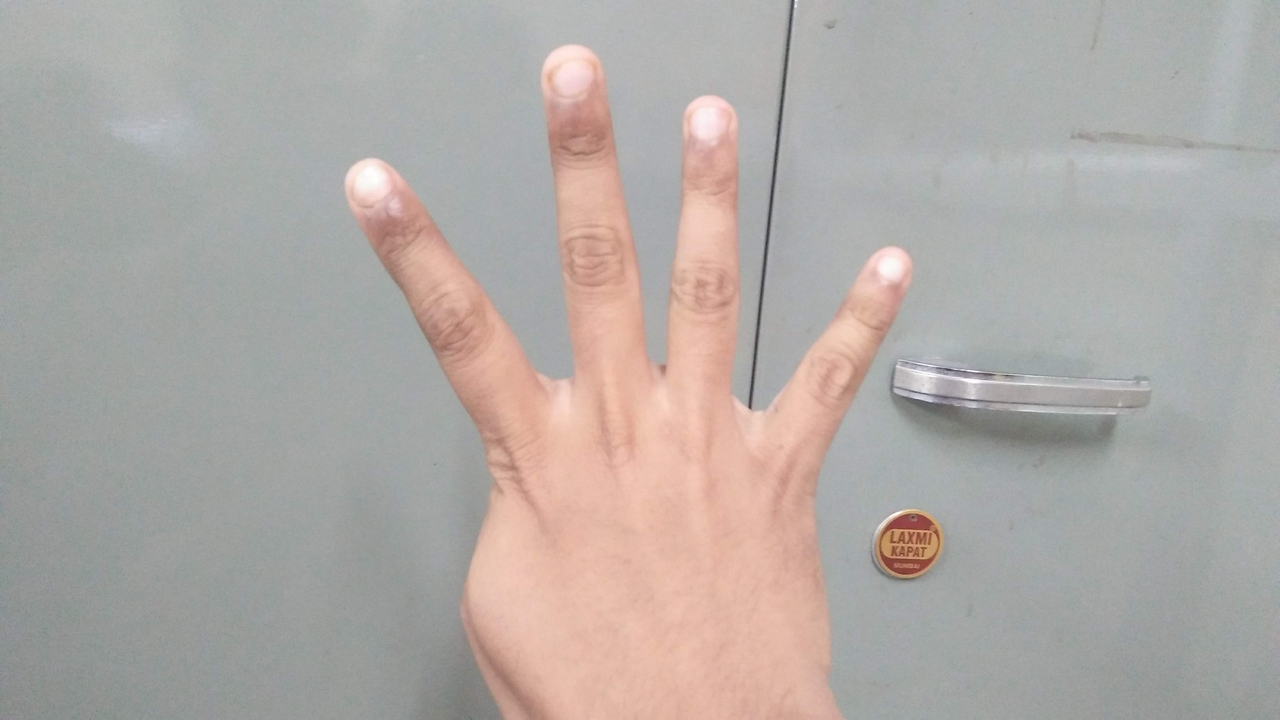fingertip: (328, 154, 408, 220), (856, 236, 926, 298), (536, 46, 606, 108), (678, 96, 742, 160)
